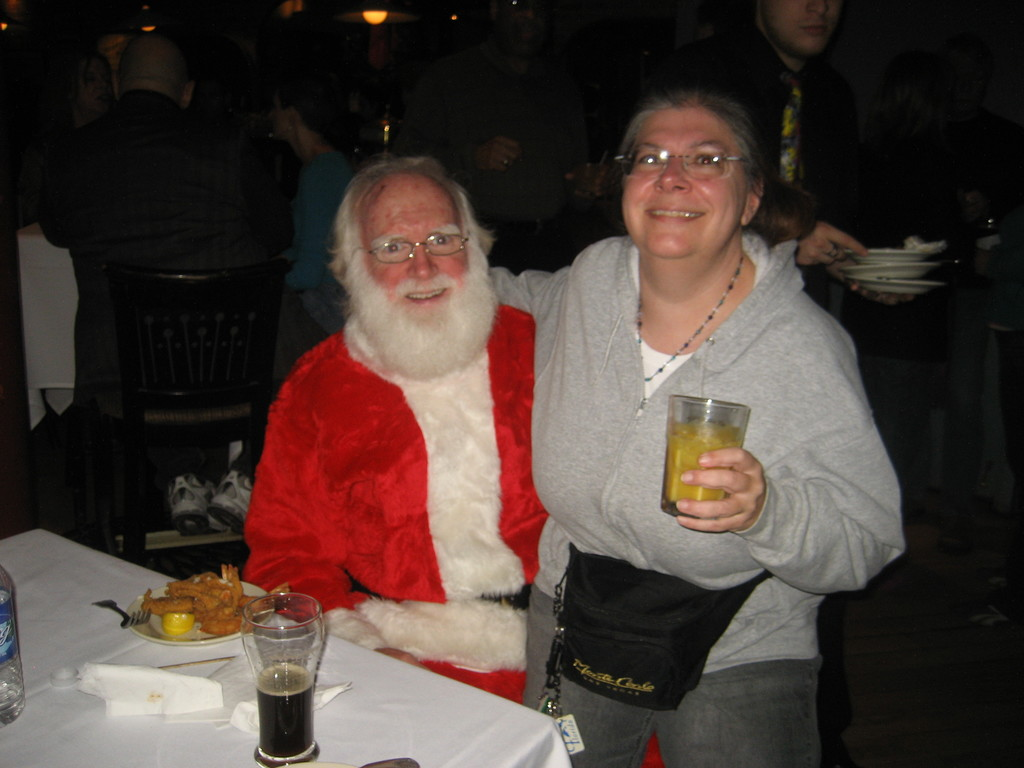Beer: (661, 419, 741, 519)
